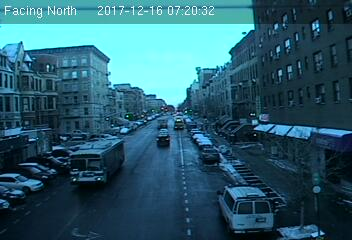bus: (70, 140, 125, 185)
car: (202, 149, 219, 163), (157, 135, 169, 143)
police: (214, 182, 274, 235)
